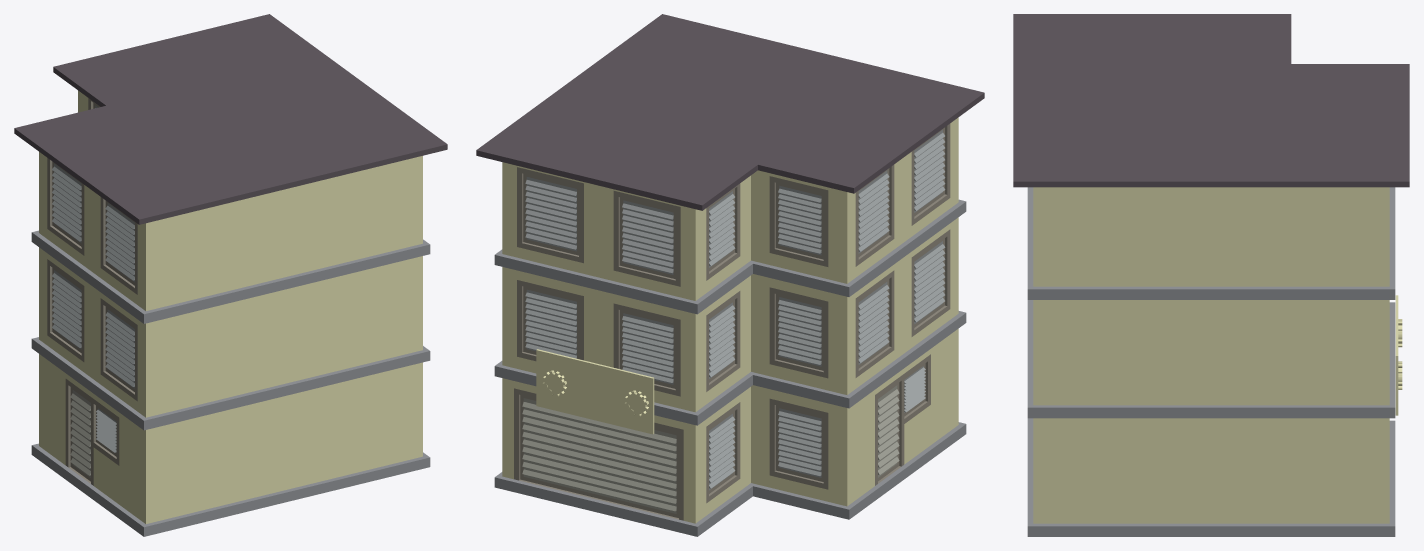
Rendered from SHOP.fbx.
3 views of the same model, side by side, from view 1: azimuth 30°, elevation 25°; view 2: azimuth 150°, elevation 25°; view 3: azimuth 270°, elevation 25° (orthographic). The views are drawn at different scales.
Parts seen in each view (by area): view 1: building_002; view 2: building_002; view 3: building_002.
Boxes of the visible parts, left/top/right/bottom form: building_002: left=14, top=14, right=447, bottom=536; building_002: left=476, top=14, right=984, bottom=536; building_002: left=1013, top=14, right=1409, bottom=536.
Size of the model in its own units: 667 by 671 by 667.
